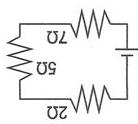Battery: (104, 40, 137, 69)
